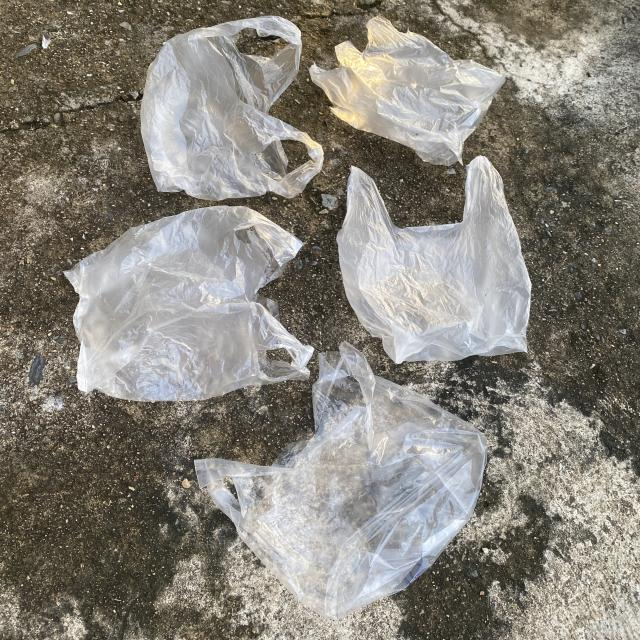Single-layer Plastic: (195, 342, 486, 619), (65, 206, 314, 401), (336, 156, 531, 364), (140, 16, 322, 200), (309, 16, 505, 166)
